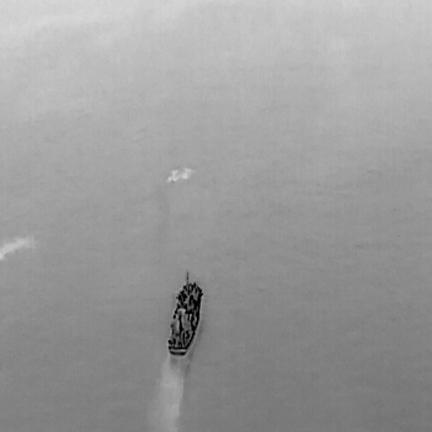flukeprints: (167, 168, 192, 181)
